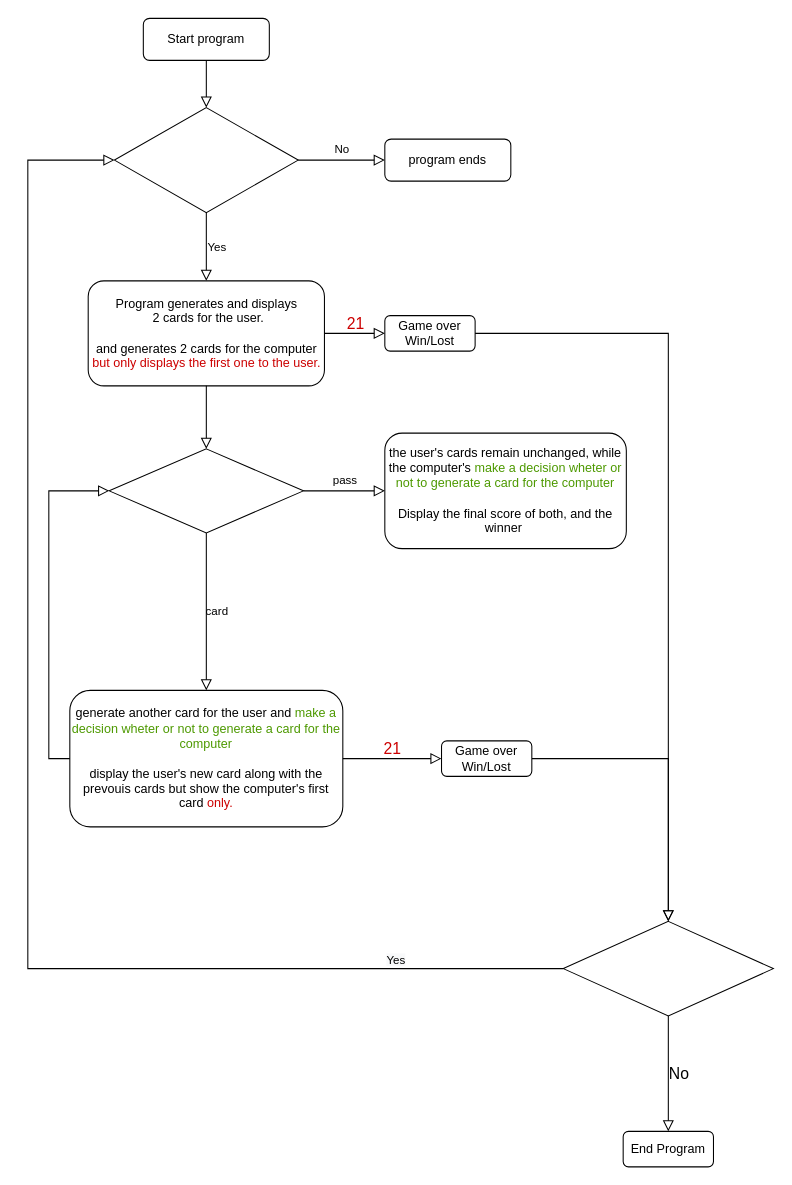
The diagram is 792 pixels wide and 1185 high, and some of its shapes have lost their labels. The centre of each missing label's shape, as x and y in pixels:
"Do you want another card or pass?" belongs at point (205, 490).
"Do you want to play a game of Blackjack?" belongs at point (205, 160).
"Do you want to play again?" belongs at point (667, 968).
